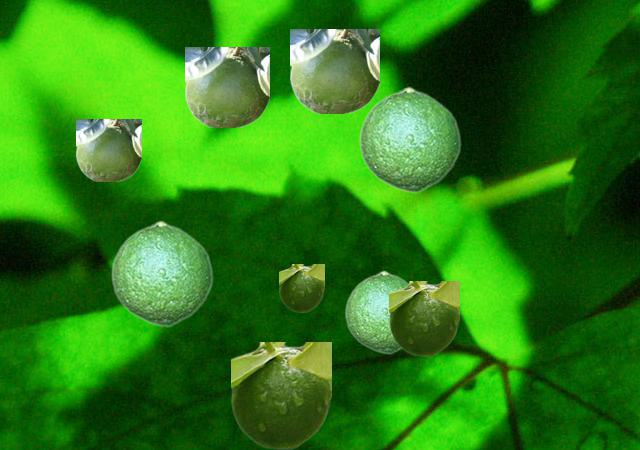dalandan: (110, 220, 212, 326), (358, 86, 460, 192), (231, 342, 330, 448), (290, 29, 378, 112), (185, 47, 268, 126), (344, 270, 407, 353), (389, 281, 458, 355), (76, 119, 140, 180), (279, 264, 323, 311)
